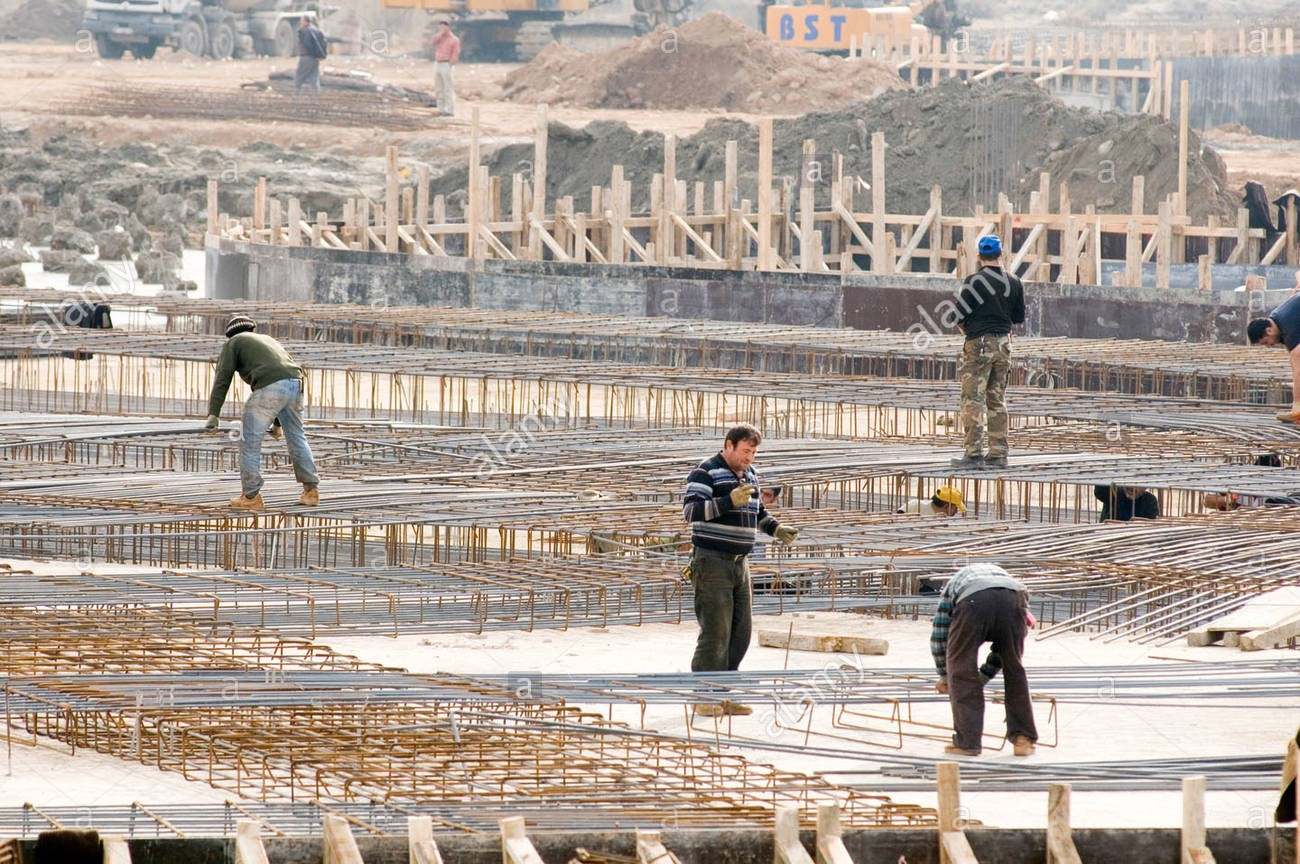noepi: (681, 419, 768, 721), (207, 310, 326, 507), (958, 230, 1025, 470), (1240, 285, 1300, 418), (897, 481, 971, 542)
